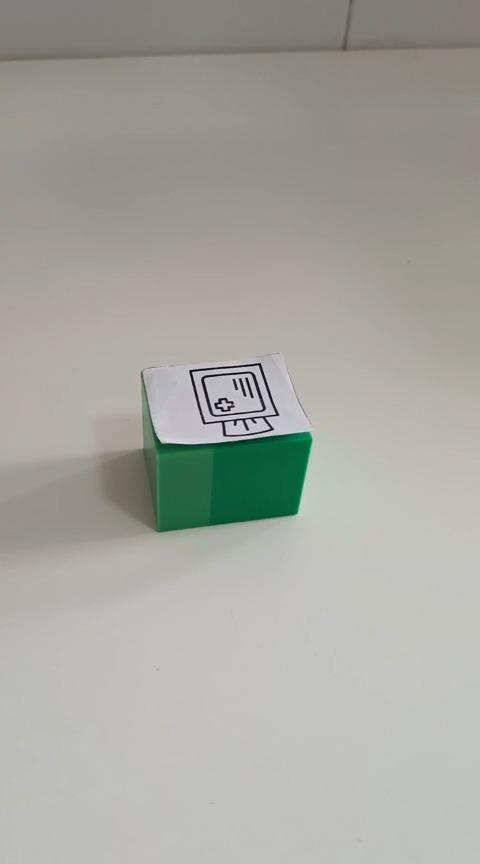Gauze: (138, 350, 313, 532)
